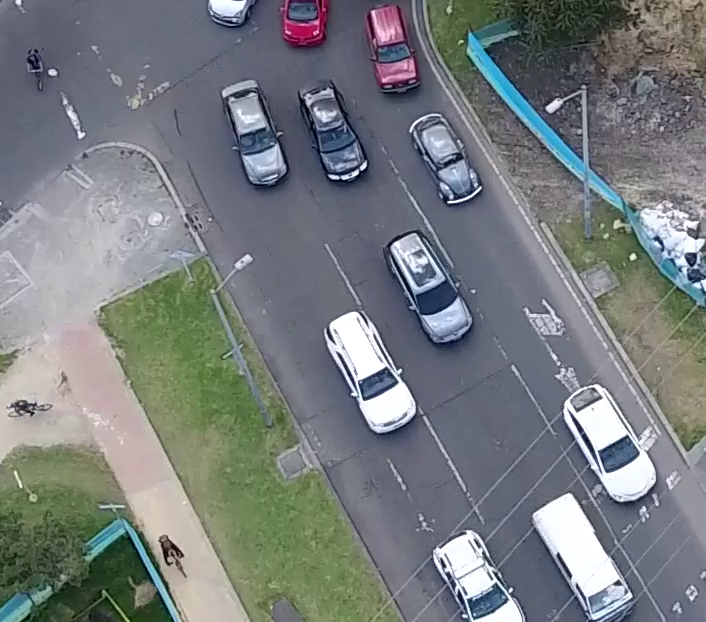car: (528, 490, 638, 622), (322, 306, 421, 437), (560, 381, 658, 506), (381, 226, 474, 348), (217, 76, 290, 191), (298, 77, 369, 185), (409, 110, 482, 210), (364, 2, 420, 96)
